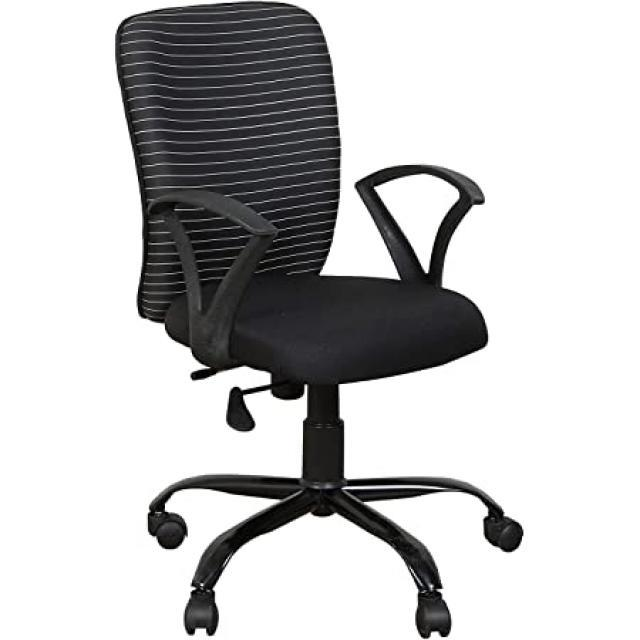chair: (72, 7, 550, 640)
